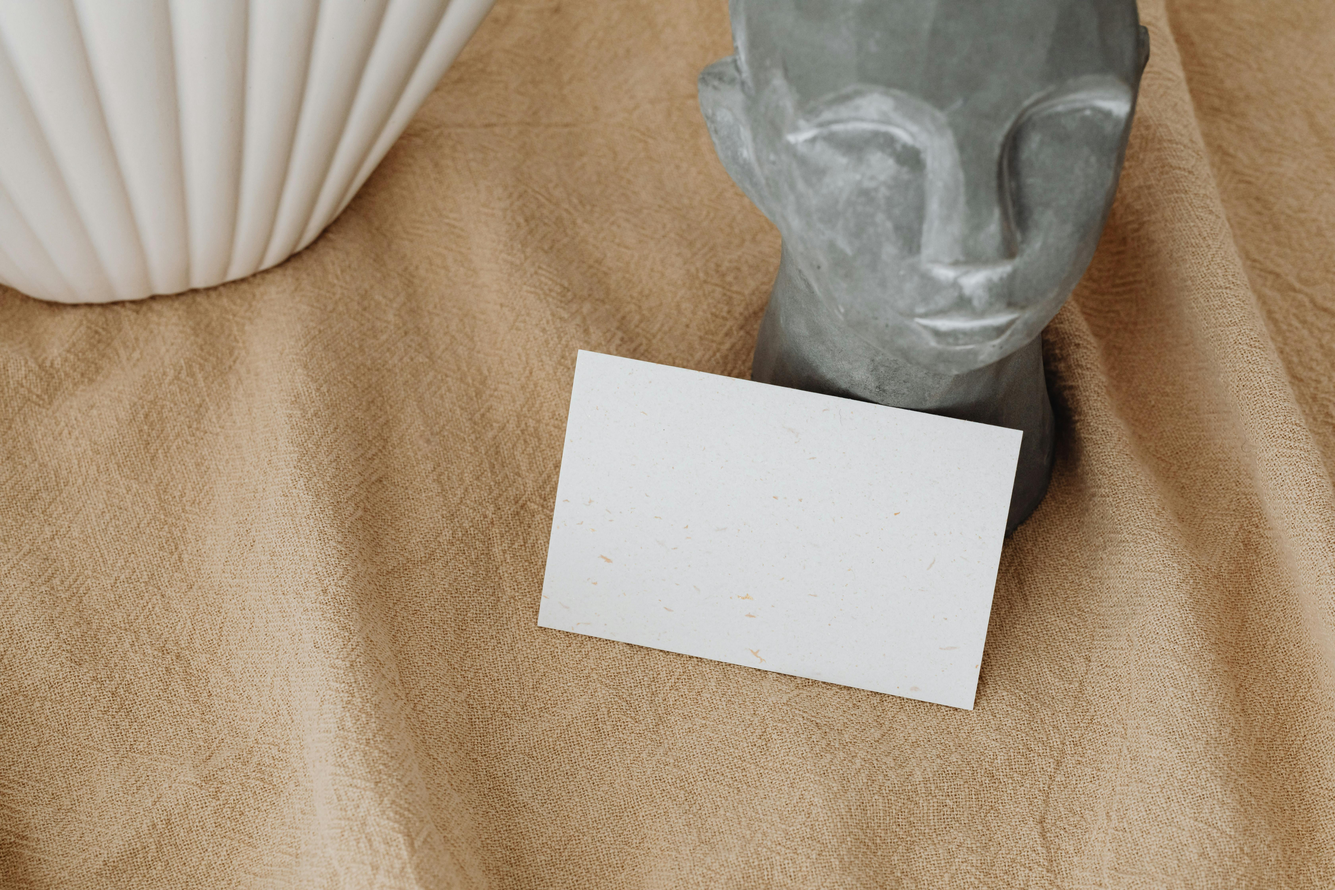paper: (536, 349, 1024, 710)
